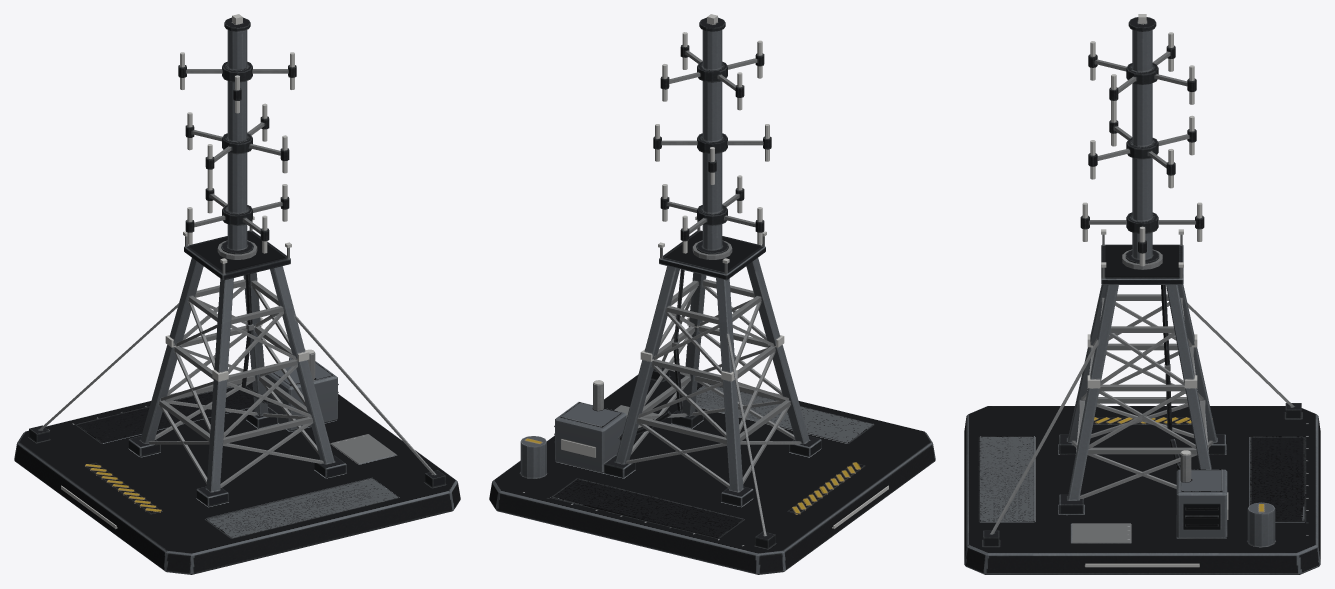
Rendered from chs_blackout.fbx.
3 renders of one model, left to right at view 1: azimuth 30°, elevation 25°; view 2: azimuth 150°, elevation 25°; view 3: azimuth 270°, elevation 25°, orthographic. The views are drawn at different scales.
Visible parts, largest first — view 1: base_bar, spine_bar, spine_glow_power_bar, base_glow_running_bar; view 2: base_bar, spine_bar, spine_glow_power_bar, base_glow_running_bar; view 3: base_bar, spine_bar, spine_glow_power_bar, base_glow_running_bar.
Part boxes in pixels (box(x1,y1,x2,y2)): base_bar: box(14, 220, 460, 574); spine_bar: box(178, 17, 296, 254); spine_glow_power_bar: box(180, 52, 294, 253); base_glow_running_bar: box(61, 216, 309, 528); base_bar: box(489, 220, 935, 574); spine_bar: box(653, 17, 771, 254); spine_glow_power_bar: box(655, 32, 769, 253); base_glow_running_bar: box(640, 216, 888, 528); base_bar: box(964, 234, 1320, 574); spine_bar: box(1080, 17, 1204, 263); spine_glow_power_bar: box(1082, 32, 1202, 266); base_glow_running_bar: box(1085, 229, 1199, 567).
Size of the model in its own units: 1569 by 2536 by 1558.
2 materials, 2 textured.
